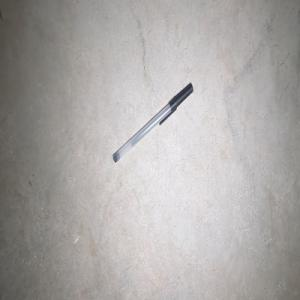Pen: (113, 83, 193, 162)
